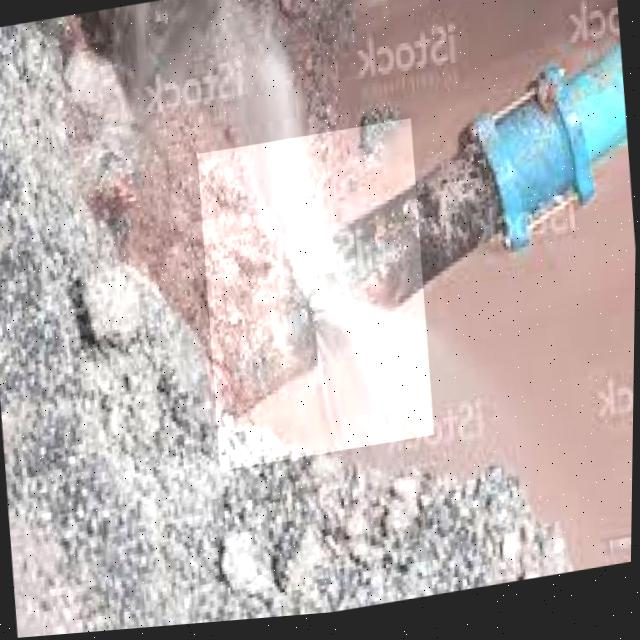corrosion: (259, 162, 396, 394)
